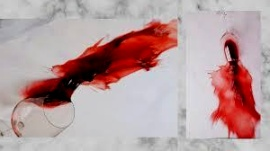wine: (92, 18, 175, 76), (31, 56, 124, 99), (209, 62, 259, 135)
